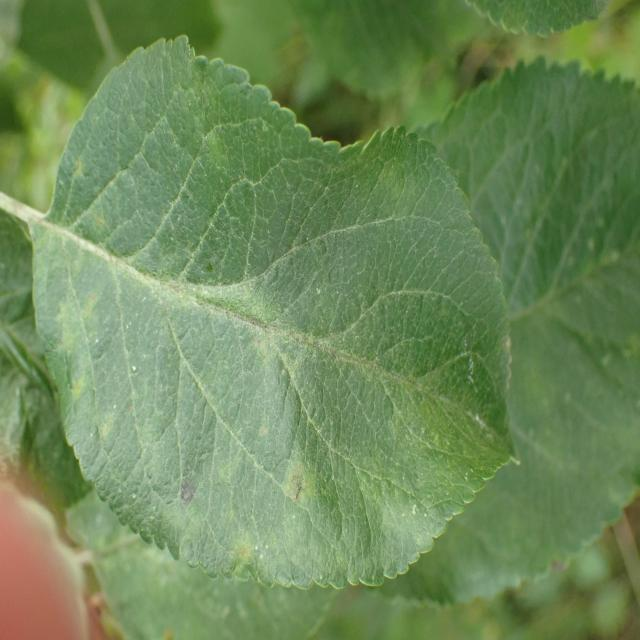scab: (68, 142, 394, 601)
